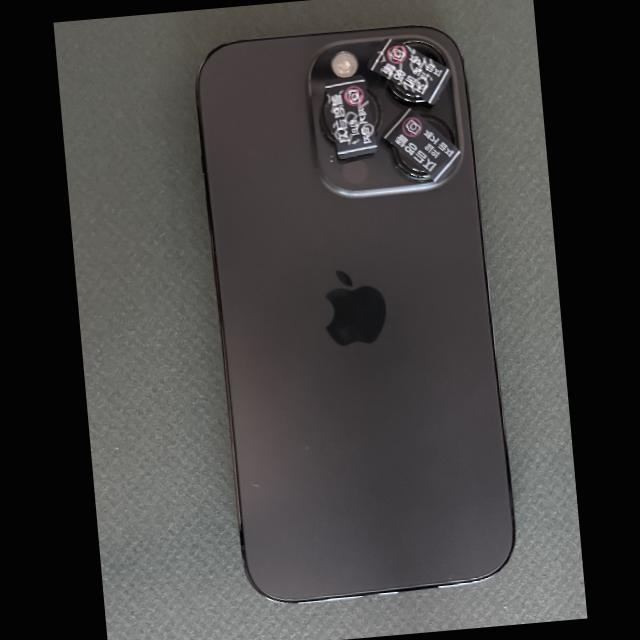lens: (392, 148, 430, 179), (403, 41, 446, 67), (319, 97, 334, 143)
phone: (196, 27, 513, 601)
sticker: (380, 106, 462, 183), (366, 38, 451, 103), (324, 74, 377, 158)
